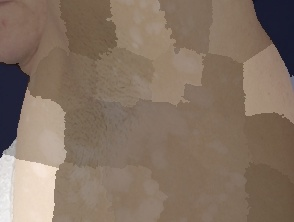vitiligo: (19, 0, 274, 222)
